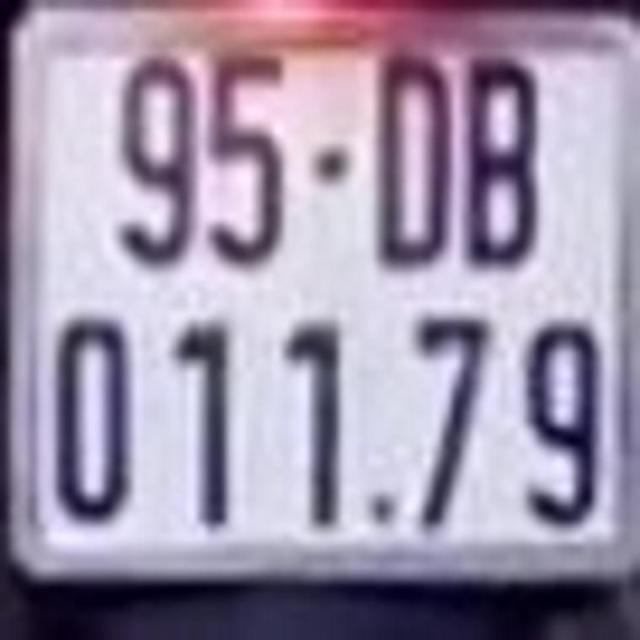0: (50, 307, 132, 528)
1: (170, 306, 248, 535), (276, 311, 351, 528)
5: (208, 39, 293, 266)
7: (412, 296, 485, 531)
9: (117, 47, 197, 268), (522, 314, 602, 530)
B: (465, 41, 536, 273)
D: (372, 42, 456, 271)
